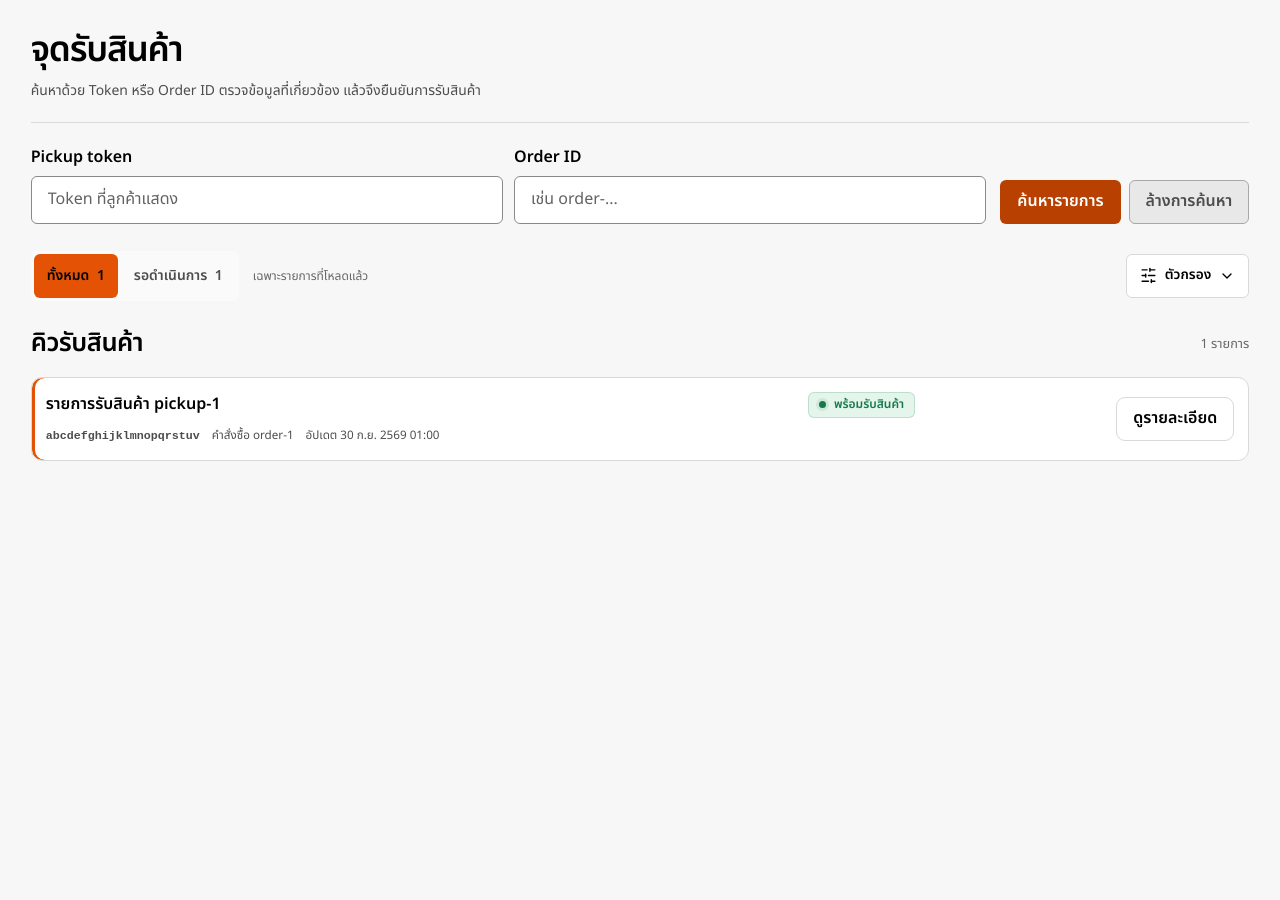
Test: OrganizationPickupsView › loads Staff/Admin pickups and searches with the documented token/order/campaign/status filters
Check: the heading "รายการรับสินค้า pickup-1" is shown, box [46, 392, 220, 416]
Type "  token-search  " into the field labelled "Pickup token" at [267, 200], box [31, 176, 503, 224]
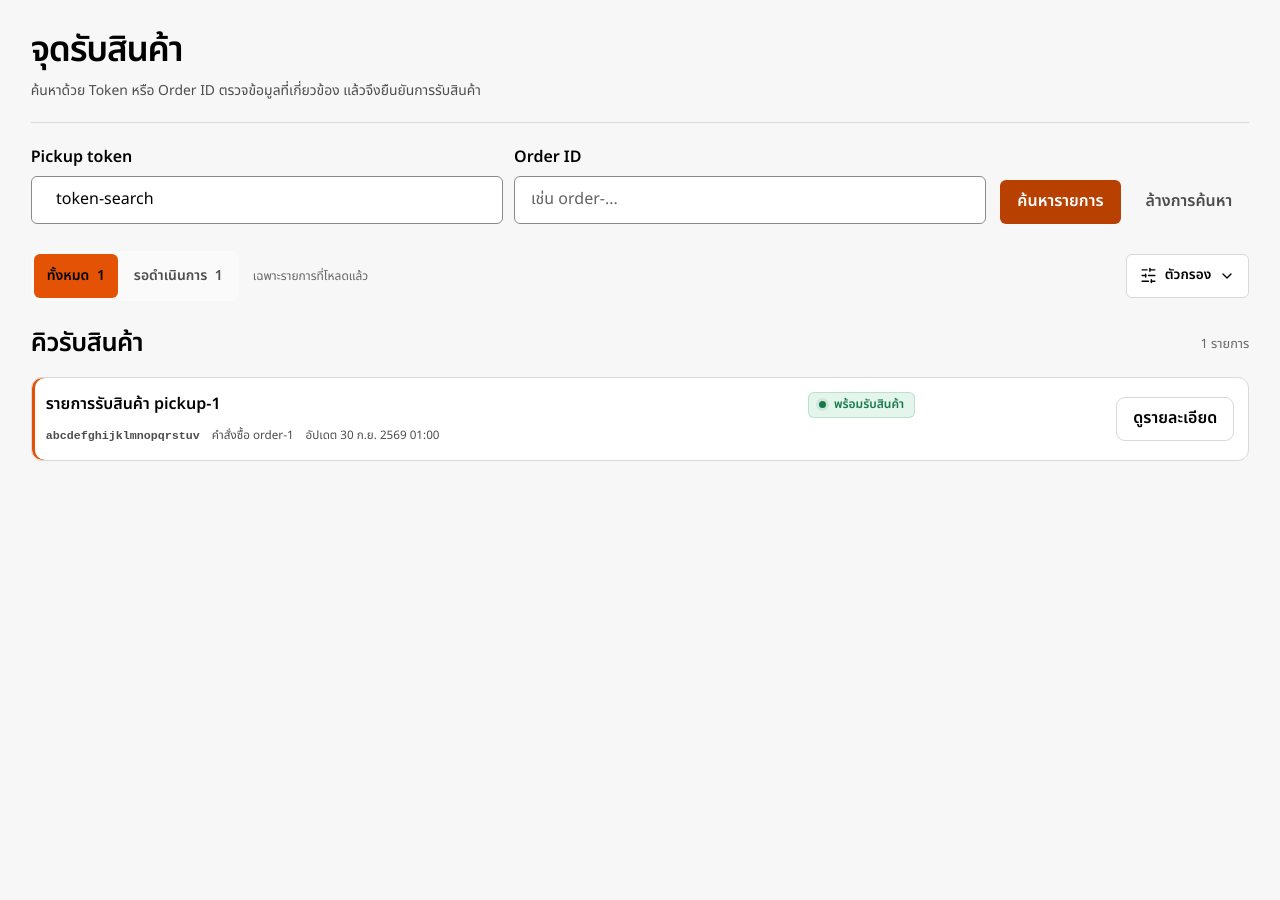
Type "  order-2  " into the field labelled "Order ID" at [750, 200], box [514, 176, 986, 224]
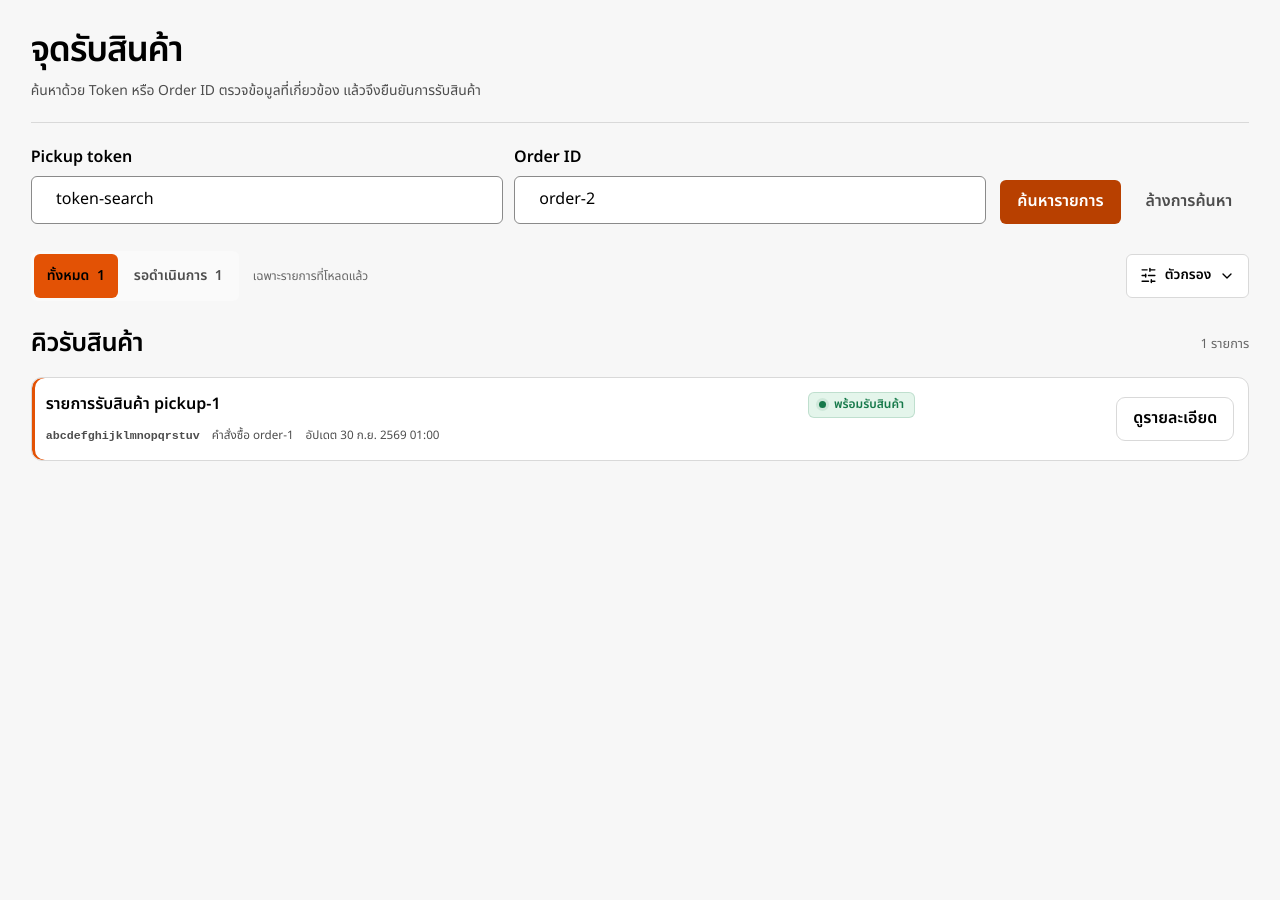
Check: the field labelled "Campaign ID" is not shown
Check: the form named "ค้นหารายการรับสินค้า" is shown, box [31, 146, 1249, 228]
Click the button "ตัวกรอง" at [1188, 276], box [1126, 254, 1249, 298]
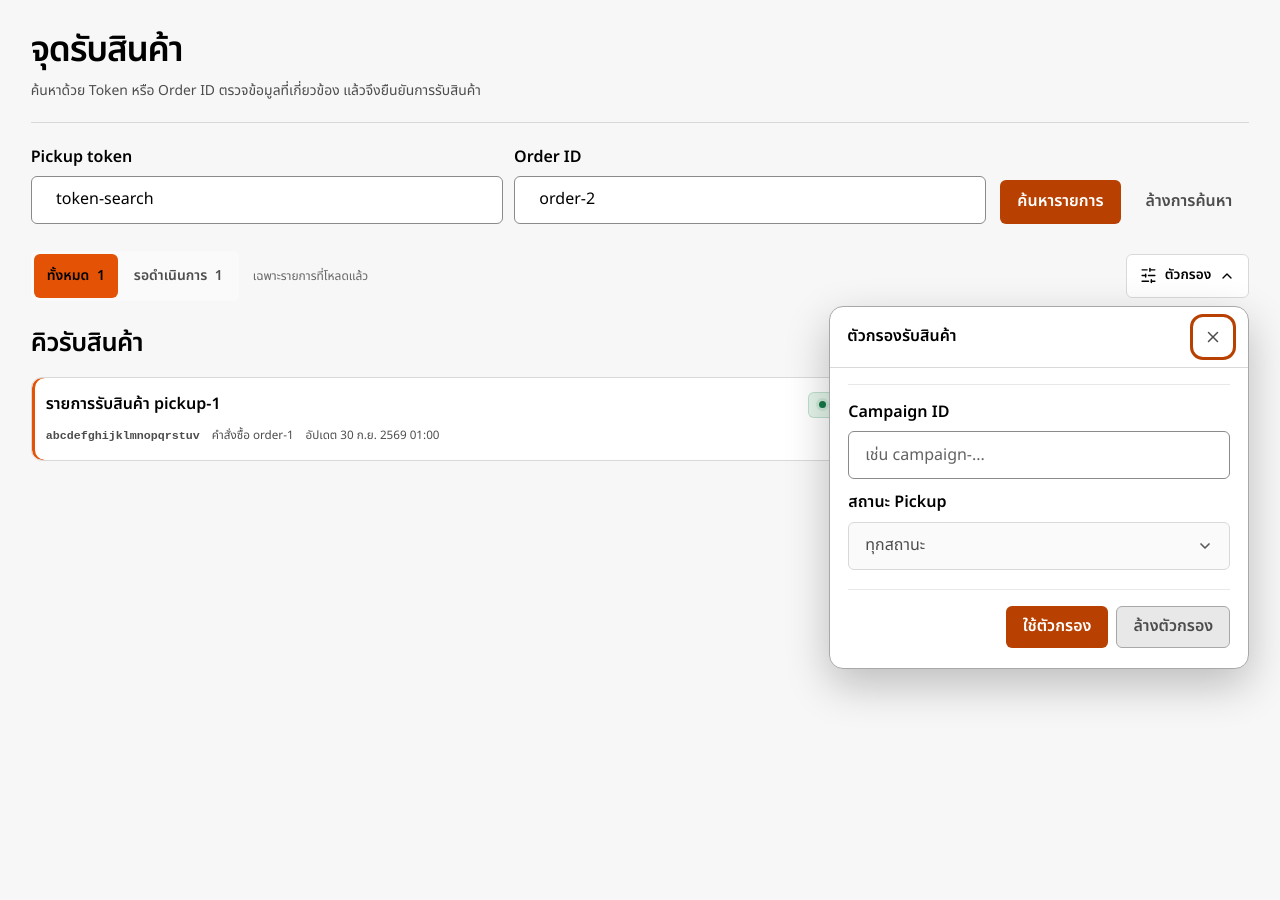
Type "  campaign-2  " into the field labelled "Campaign ID" at [1039, 455], box [848, 431, 1230, 479]
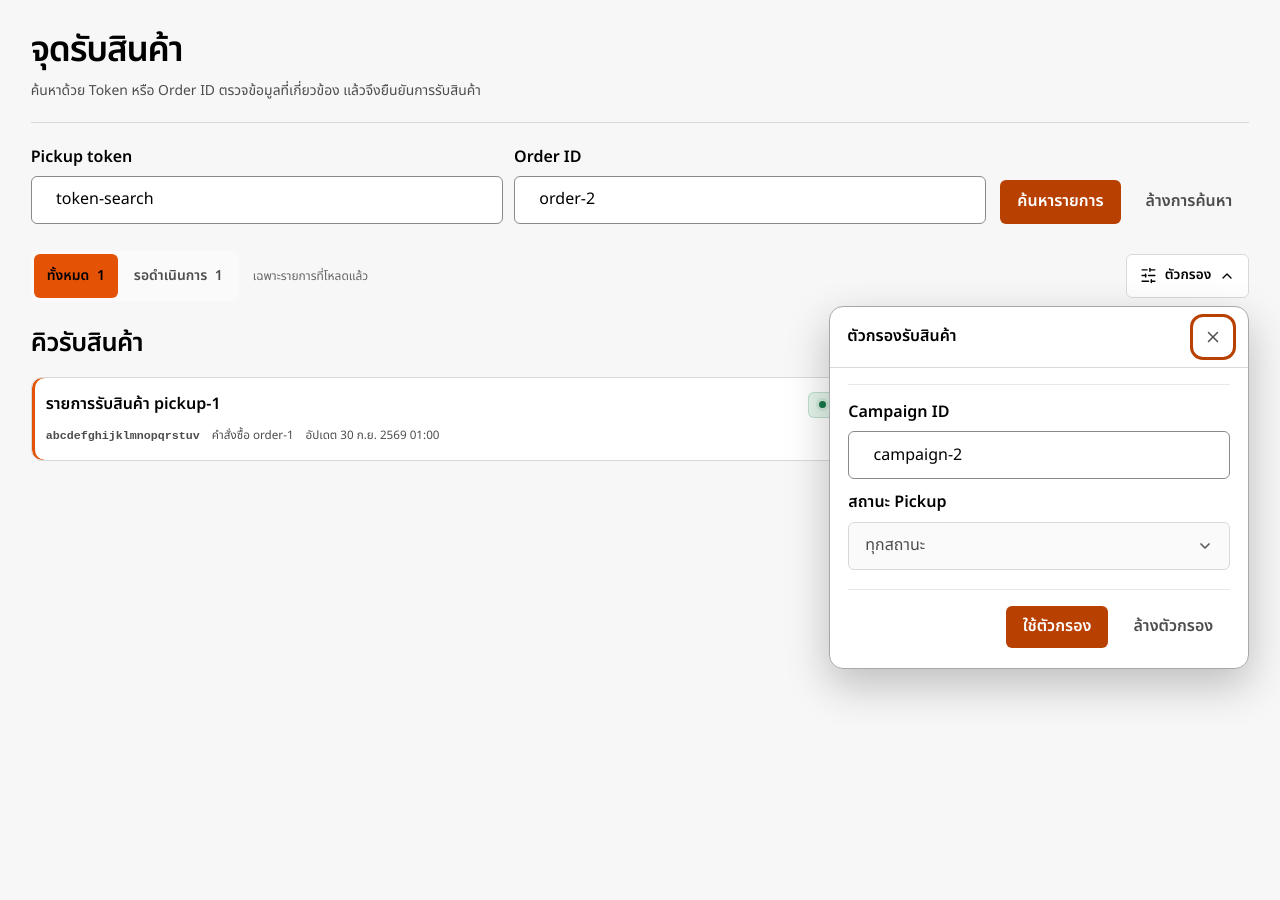
Select "รับสินค้าแล้ว" in the dropdown labelled "สถานะ Pickup" at [1039, 546], box [848, 522, 1230, 570]
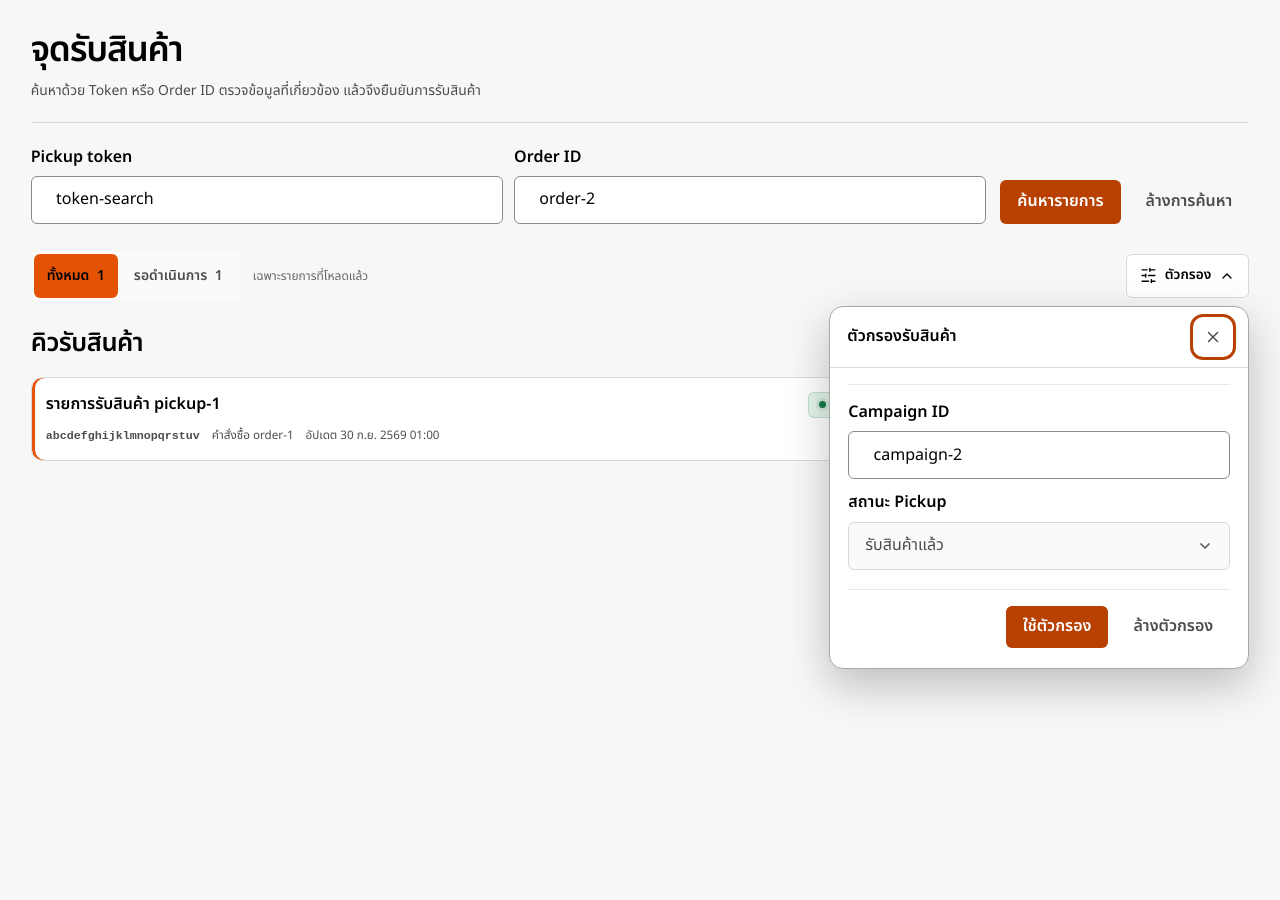
Click the button "ใช้ตัวกรอง" at [1057, 627], box [1006, 606, 1108, 648]
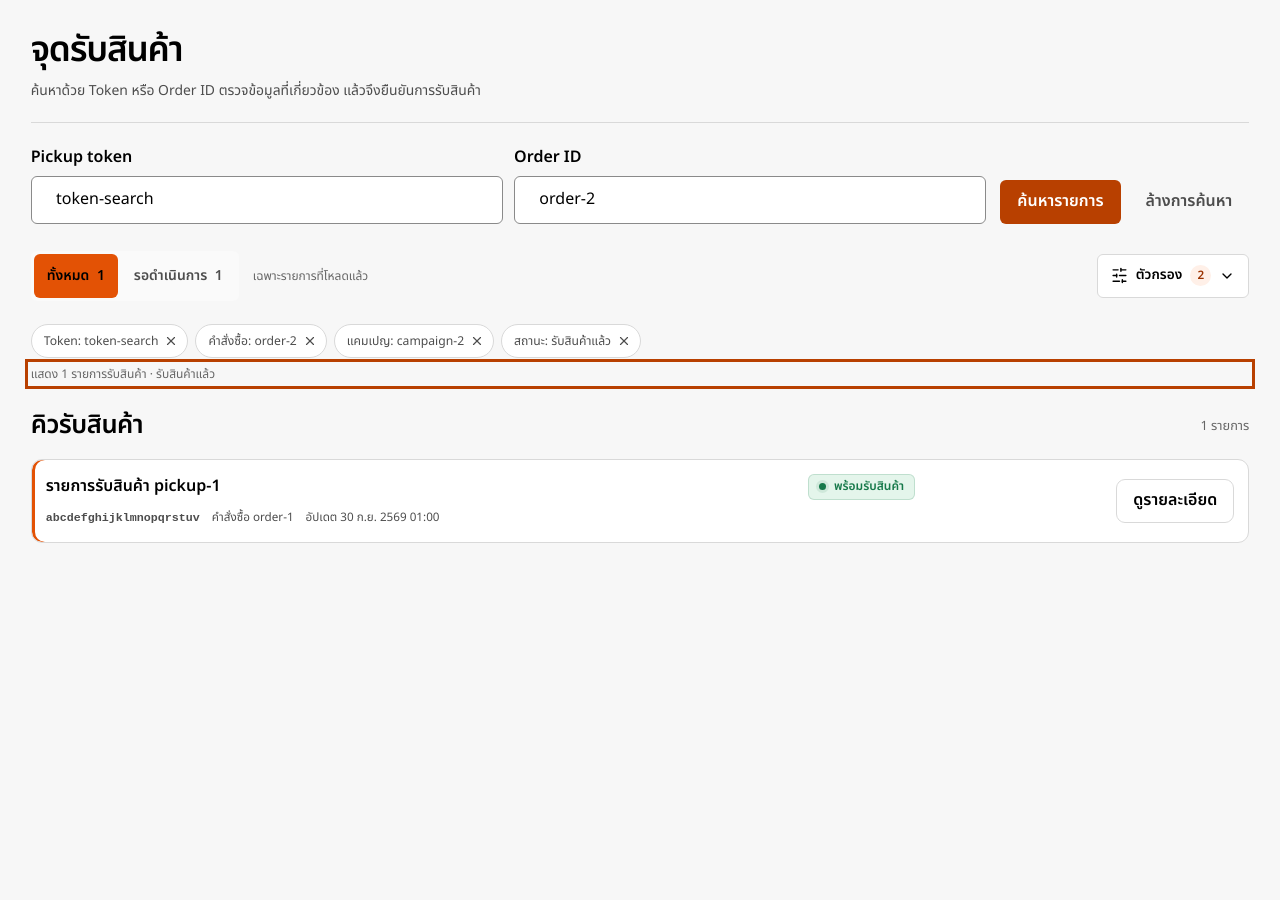
Check: the message reads "แสดง 1 รายการรับสินค้า · รับสินค้าแล้ว", box [31, 365, 215, 383]
